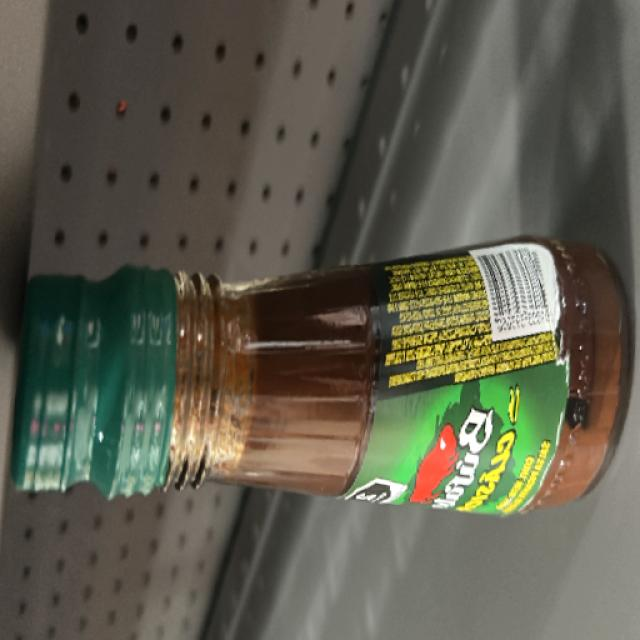salsaBufalo: (19, 273, 615, 501)
